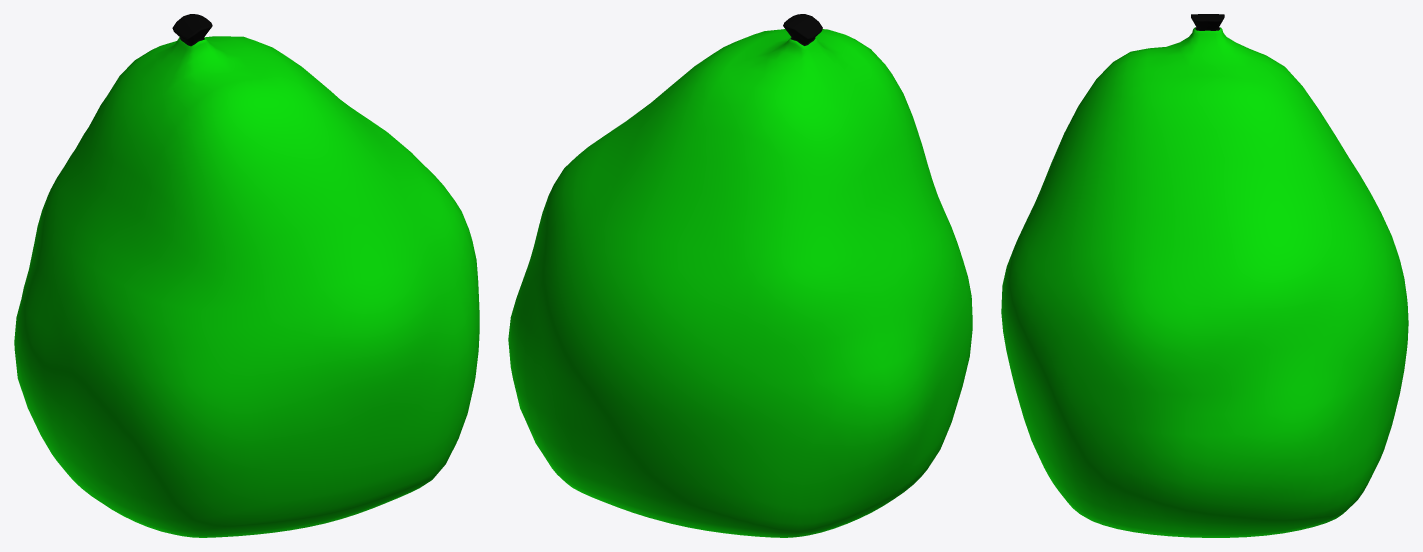
The model's file is trash.fbx.
3 views of the same model, side by side, from view 1: azimuth 30°, elevation 25°; view 2: azimuth 150°, elevation 25°; view 3: azimuth 270°, elevation 25° (orthographic). The views are drawn at different scales.
Visible parts, largest first — view 1: trash_tri; view 2: trash_tri; view 3: trash_tri.
Boxes of the visible parts, left/top/right/bottom form: trash_tri: left=14, top=14, right=479, bottom=537; trash_tri: left=508, top=14, right=972, bottom=537; trash_tri: left=1001, top=14, right=1408, bottom=537.
Size of the model in its own units: 77.96 by 87.51 by 73.15.
